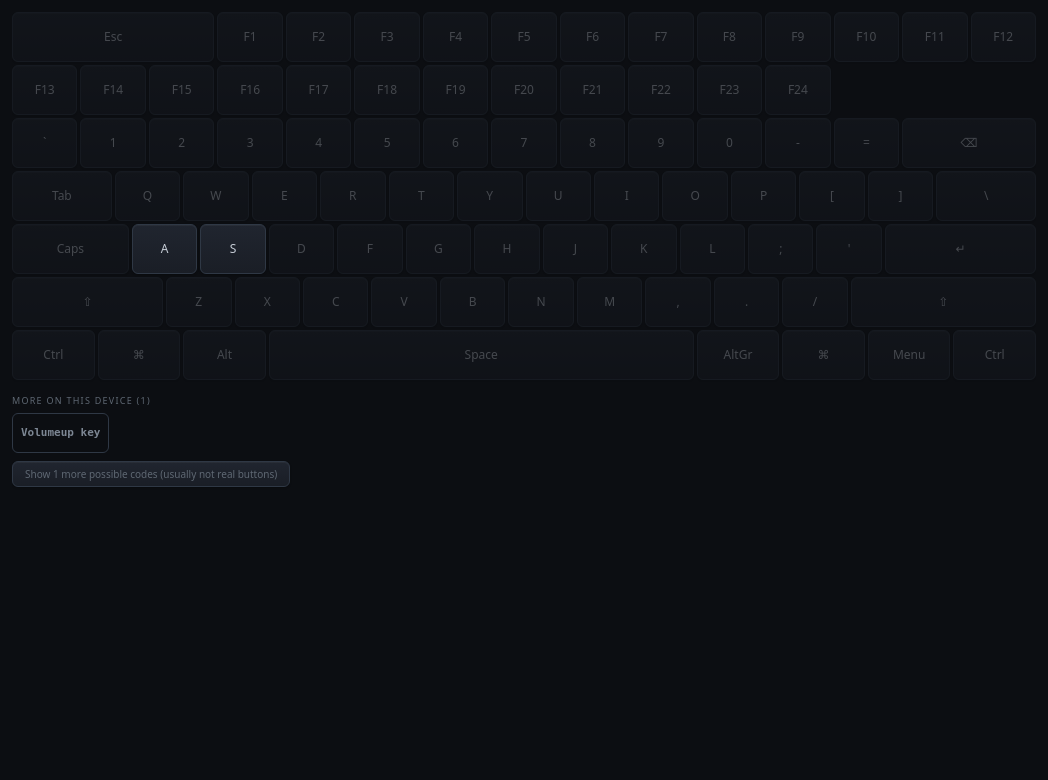
Test: KeyboardViz capability filtering › dims board keys the device does not declare and lists extras
Expected: the button "Volumeup key" is shown, [12,413,110,453]
Click the button "Show 1 more possible codes (usually not real buttons)" at (151, 474), box [12,461,290,487]
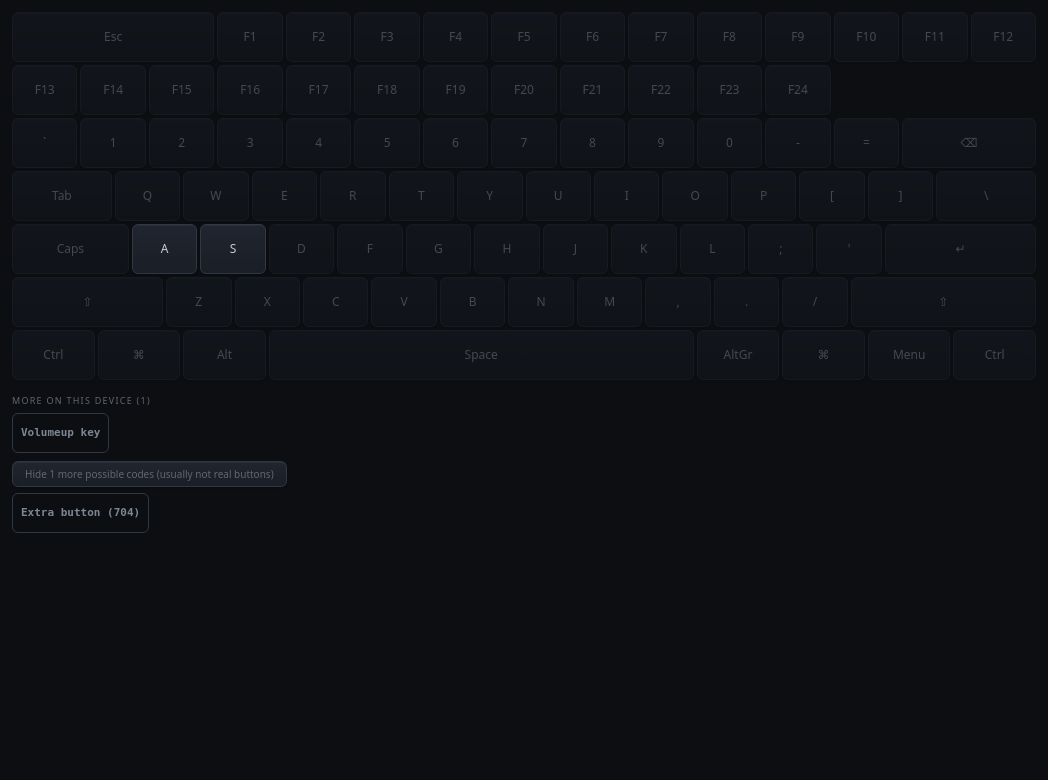
Expected: the button "Extra button (704)" is shown, [12,493,149,533]
